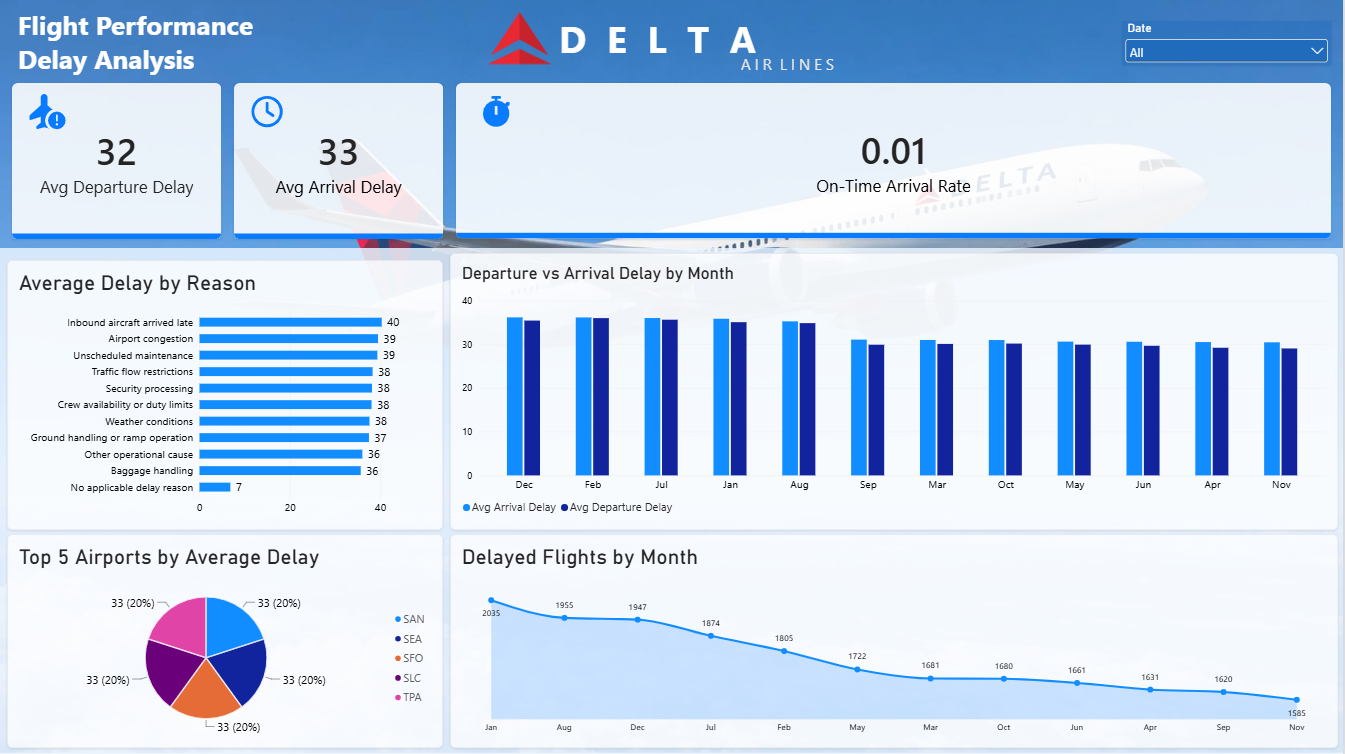

Layout of this report page (visuals, bound fields, positions):
{"tool":"powerbi","page":{"name":"Flight Performance & Delays","canvas":[1920,1080],"ordinal":2},"visuals":[{"type":"shape","box":[0,355.1,1920.6,724.9],"z":0},{"type":"pieChart","title":"Top 5 Airports by Average Delay","fields":{"Category":["Airport.IATACode"],"Y":["Home - Dax.Avg Arrival Delay"]},"box":[11.4,764.3,622.9,305.7],"z":1000},{"type":"lineChart","title":"Delayed Flights by Month","fields":{"Category":["Date.MonthShortName"],"Y":["Home - Dax.Delayed Flights"]},"box":[644.3,764.3,1268.6,305.7],"z":2000},{"type":"clusteredBarChart","title":"Average Delay by Reason","fields":{"Category":["Delay Reasons.DelayReason"],"Y":["Home - Dax.Avg Delay by Reason"]},"box":[11.4,372.9,622.9,385.7],"z":3000},{"type":"clusteredColumnChart","title":"Departure vs Arrival Delay by Month","fields":{"Category":["Date.MonthShortName"],"Y":["Home - Dax.Avg Arrival Delay","Home - Dax.Avg Departure Delay"]},"box":[644.3,362.9,1268.6,395.7],"z":4000},{"type":"cardVisual","fields":{"Data":["Home - Dax.Avg Departure Delay"]},"box":[18.6,119.7,299.3,223.4],"z":5000},{"type":"cardVisual","fields":{"Data":["Home - Dax.On-Time Arrival Rate"]},"box":[652.9,120,1250,222.9],"z":7000},{"type":"cardVisual","fields":{"Data":["Home - Dax.Average Arrival Delay"]},"box":[335.7,120,299,223.4],"z":10000},{"type":"textbox","box":[800.7,18.6,301.9,75.8],"z":11000},{"type":"textbox","box":[1060,78.5,145,41.2],"z":12000},{"type":"image","box":[696.9,12,93.1,89.1],"z":13000},{"type":"image","box":[34.3,132.9,65.7,55.7],"z":14000},{"type":"image","box":[677.1,132.9,65.7,55.7],"z":17000},{"type":"image","box":[350,132.9,65.7,55.7],"z":19000},{"type":"textbox","box":[27.1,11.4,368.6,108.6],"z":20000},{"type":"slicer","title":"Date","fields":{"Values":["Date.Date"]},"box":[1604.3,31.4,298.6,62.9],"z":21000}]}

Visuals, with their boxes in screenshot pixels (x1, y1, x2, y2), scaled from the page's 1920x1080 canvas onto the 1345x754 screenshot:
shape: region(0, 248, 1344, 753)
"Top 5 Airports by Average Delay" pieChart: region(8, 534, 444, 747)
"Delayed Flights by Month" lineChart: region(451, 534, 1340, 747)
"Average Delay by Reason" clusteredBarChart: region(8, 260, 444, 530)
"Departure vs Arrival Delay by Month" clusteredColumnChart: region(451, 253, 1340, 530)
cardVisual - Home - Dax.Avg Departure Delay: region(13, 84, 223, 240)
cardVisual - Home - Dax.On-Time Arrival Rate: region(457, 84, 1333, 239)
cardVisual - Home - Dax.Average Arrival Delay: region(235, 84, 445, 240)
textbox: region(561, 13, 772, 66)
textbox: region(743, 55, 844, 84)
image: region(488, 8, 553, 71)
image: region(24, 93, 70, 132)
image: region(474, 93, 520, 132)
image: region(245, 93, 291, 132)
textbox: region(19, 8, 277, 84)
"Date" slicer: region(1124, 22, 1333, 66)
